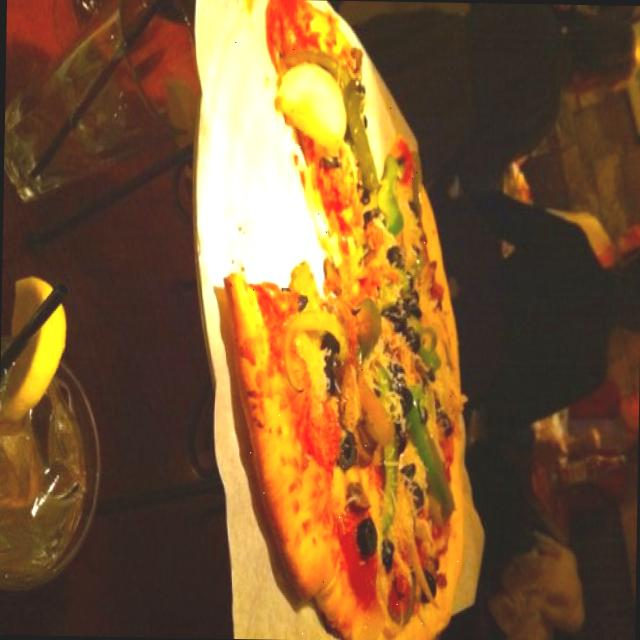Bell Pepper: (402, 368, 458, 526), (270, 298, 346, 380), (344, 66, 374, 218), (372, 138, 414, 244), (276, 38, 344, 86), (404, 323, 446, 388)
Olive: (314, 332, 352, 401), (323, 426, 362, 471), (410, 562, 446, 610), (384, 378, 421, 419), (275, 283, 311, 322), (398, 476, 434, 514), (374, 296, 406, 334), (356, 515, 378, 566), (386, 416, 410, 462), (356, 169, 378, 213), (356, 201, 382, 231), (401, 330, 425, 362), (402, 298, 428, 326), (433, 406, 452, 441), (386, 246, 404, 276), (406, 282, 419, 302)
pizza: (225, 1, 463, 640)
